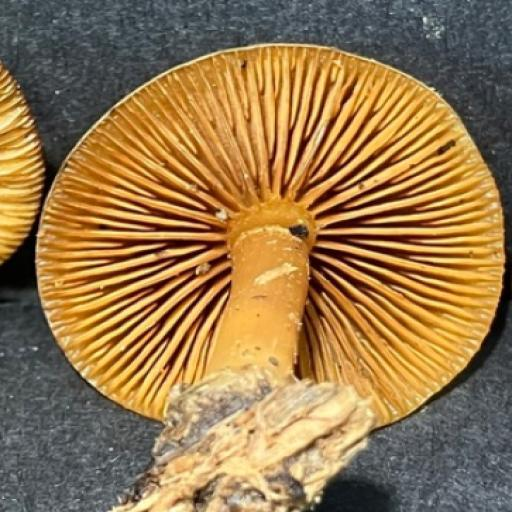mushroom: (36, 40, 512, 434)
